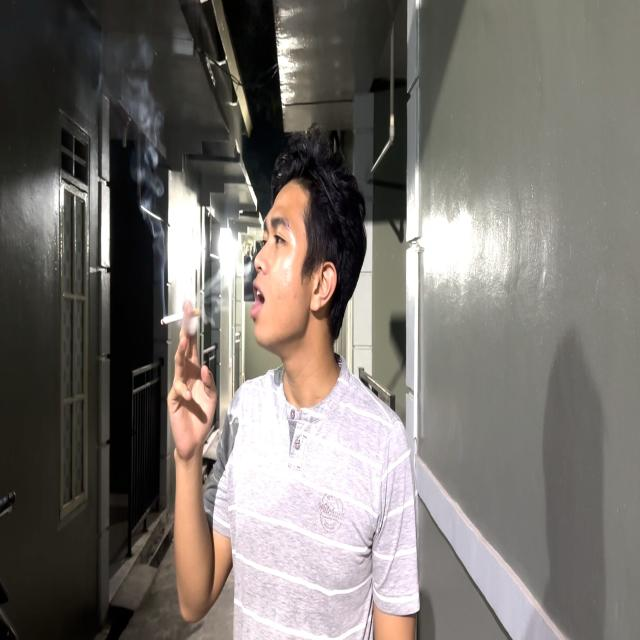cigarette: (153, 286, 217, 352)
smoking: (150, 133, 377, 633)
